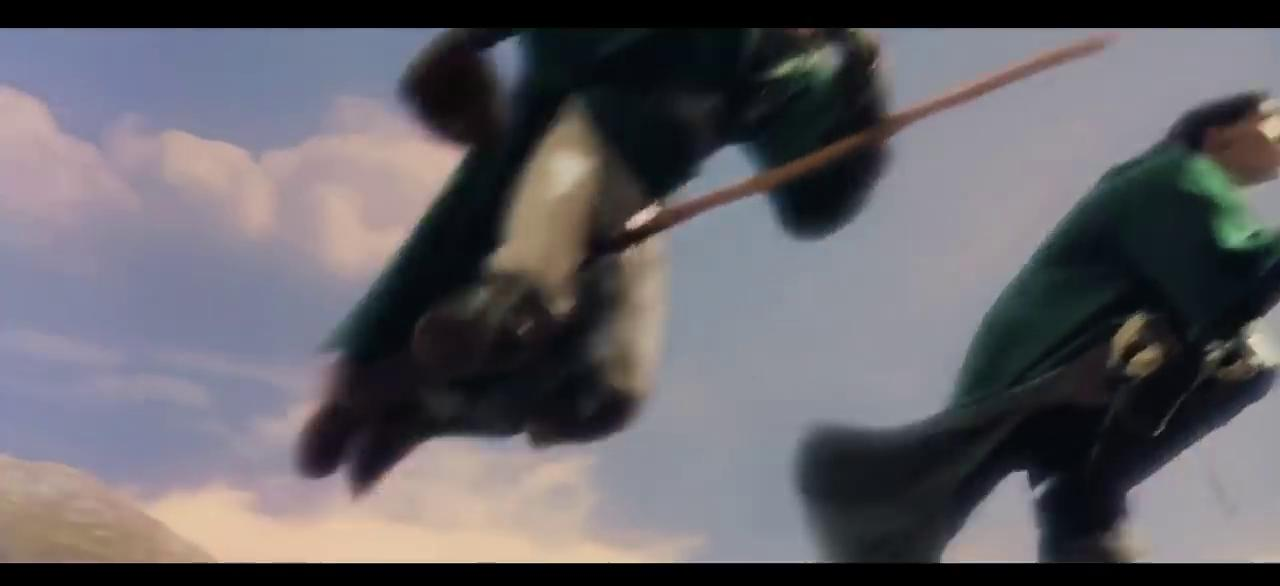quaffle: (420, 51, 491, 136)
